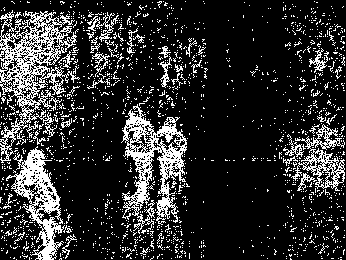person: (15, 149, 62, 260), (121, 106, 157, 200), (155, 114, 188, 202)
